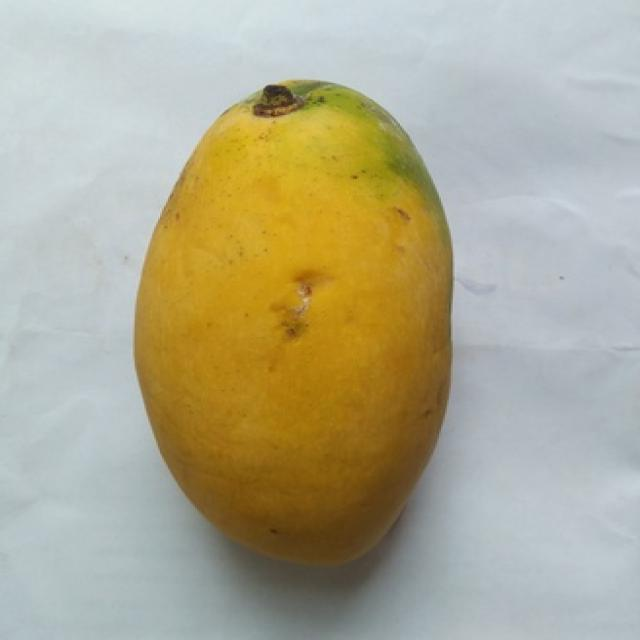Mango: (137, 80, 451, 560)
